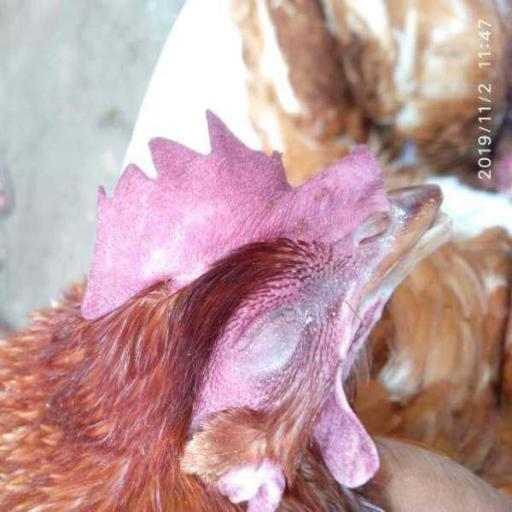disease: (202, 293, 337, 368)
